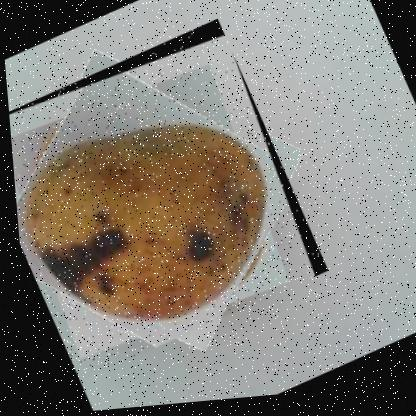mango_rotten: (2, 16, 331, 387)
